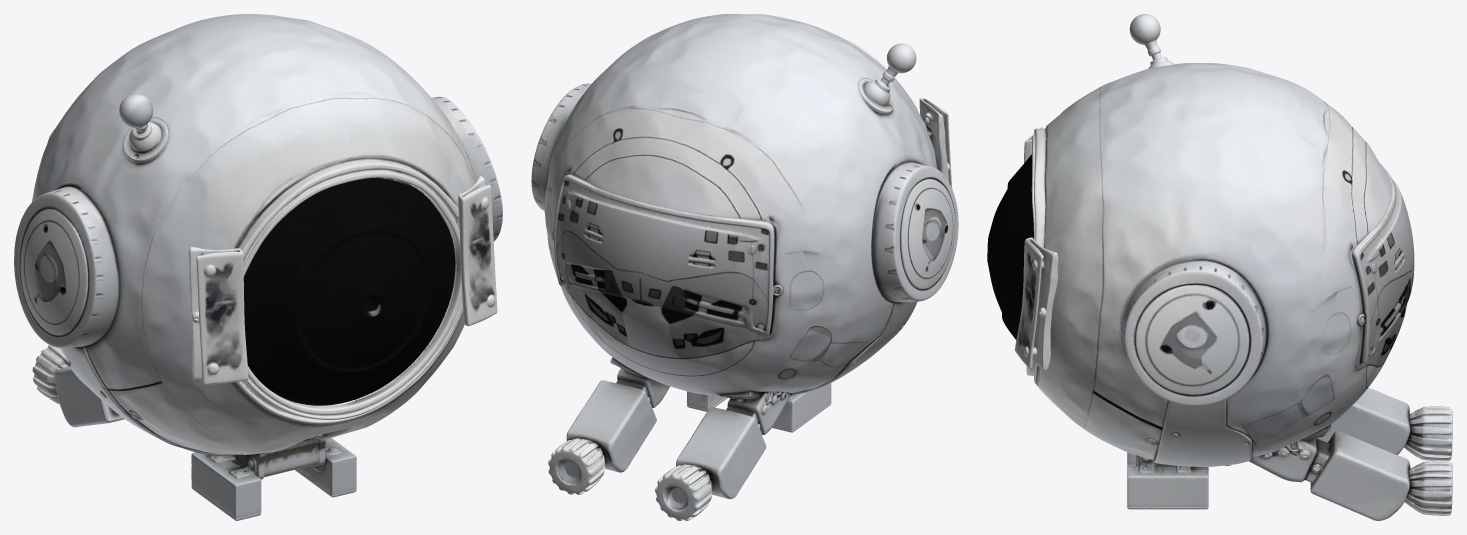
The model's file is roboeye.glb.
The picture shows the model from 3 angles, left to right: view 1: azimuth 30°, elevation 25°; view 2: azimuth 150°, elevation 25°; view 3: azimuth 270°, elevation 25°; orthographic projection. The views are drawn at different scales.
Size of the model in its own units: 1.85 by 1.81 by 1.9.
1 material, 1 textured.
